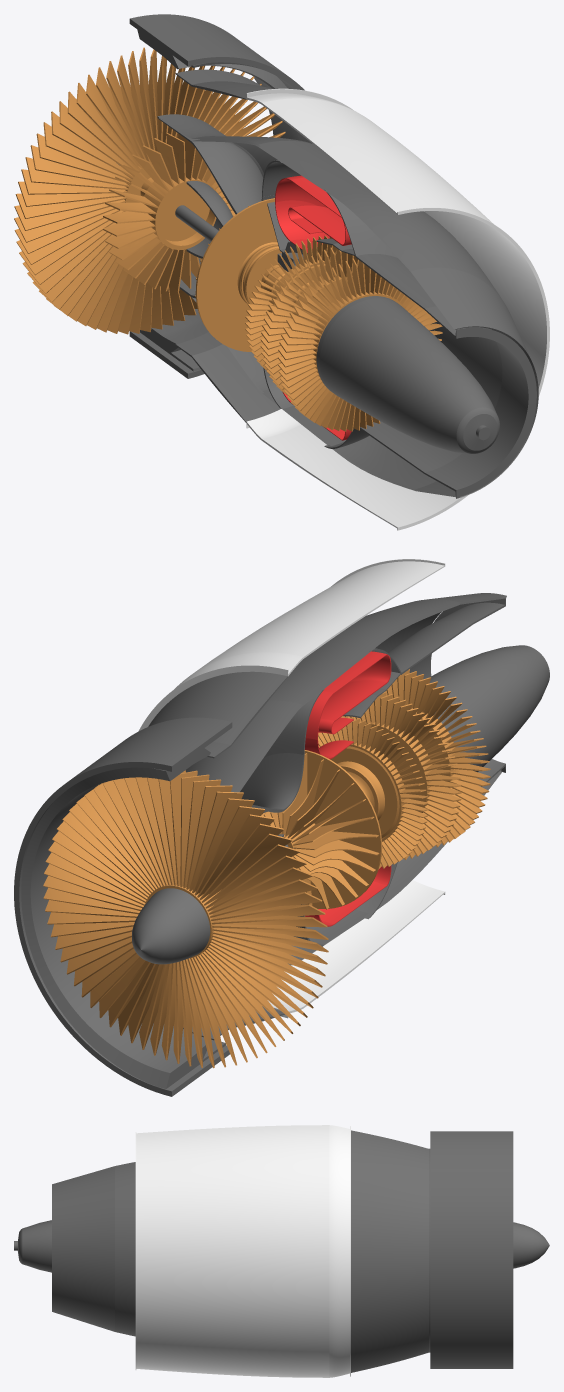
Rendered from turbine01.FBX.
3 renders of one model, top to bottom at view 1: azimuth 30°, elevation 25°; view 2: azimuth 150°, elevation 25°; view 3: azimuth 270°, elevation 25°, orthographic. The views are drawn at different scales.
Visible parts, largest first — view 1: Line37, Line36, Line34, Line38, Line03, Rectangle01, Line35, Line39, Line41, Line33, Cylinder03, Tube02 (+34 smaller); view 2: Line37, Line36, Line33, Line34, Rectangle01, Line03, Line35, Line39, Line01, Line38, Line32, Line41 (+70 smaller); view 3: Line37, Rectangle01, Line35, Line36, Line34, Line01.
Boxes of the visible parts, box(x1,y1,x2,y2) form: Line37: box(246, 88, 549, 530); Line36: box(159, 115, 538, 497); Line34: box(316, 296, 499, 453); Line38: box(324, 189, 536, 498); Line03: box(195, 198, 281, 351); Rectangle01: box(129, 14, 304, 378); Line35: box(175, 69, 311, 422); Line39: box(275, 175, 351, 440); Line41: box(157, 114, 275, 298); Line33: box(137, 29, 298, 371); Cylinder03: box(159, 185, 209, 241); Tube02: box(144, 177, 216, 249); Line37: box(138, 559, 445, 1018); Line36: box(185, 593, 506, 965); Line33: box(21, 748, 225, 1088); Line34: box(429, 645, 549, 772); Rectangle01: box(14, 717, 232, 1096); Line03: box(304, 750, 382, 908); Line35: box(148, 671, 287, 1040); Line39: box(304, 651, 391, 926); Line01: box(132, 888, 210, 964); Line38: box(355, 598, 505, 919); Line32: box(330, 743, 405, 841); Line41: box(240, 753, 304, 904); Line37: box(135, 1125, 350, 1377); Rectangle01: box(430, 1131, 513, 1368); Line35: box(351, 1130, 430, 1372); Line36: box(52, 1162, 135, 1336); Line34: box(17, 1220, 51, 1272); Line01: box(513, 1222, 549, 1268).
Size of the model in its own units: 336 by 372 by 753.
